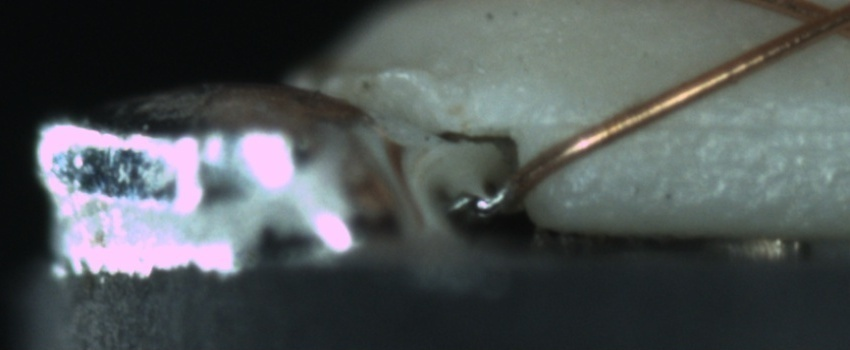CL: (776, 0, 849, 45)
DL: (553, 90, 849, 155)
